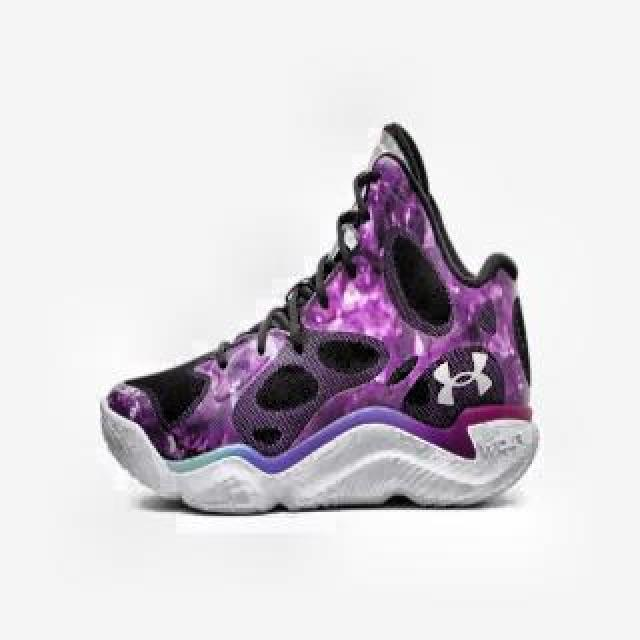shoe: (96, 117, 542, 511)
